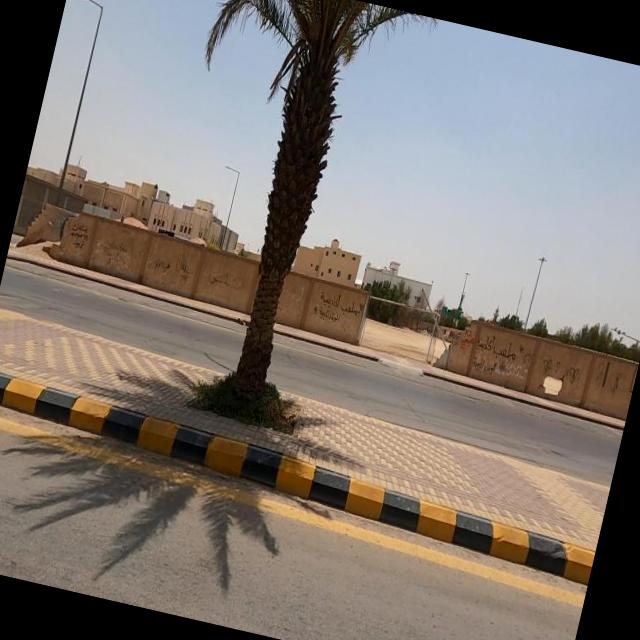debris: (264, 249, 408, 379), (170, 233, 293, 335), (448, 296, 550, 411), (114, 222, 230, 318), (501, 332, 612, 422), (31, 196, 123, 282), (76, 215, 159, 301), (442, 301, 503, 378)
